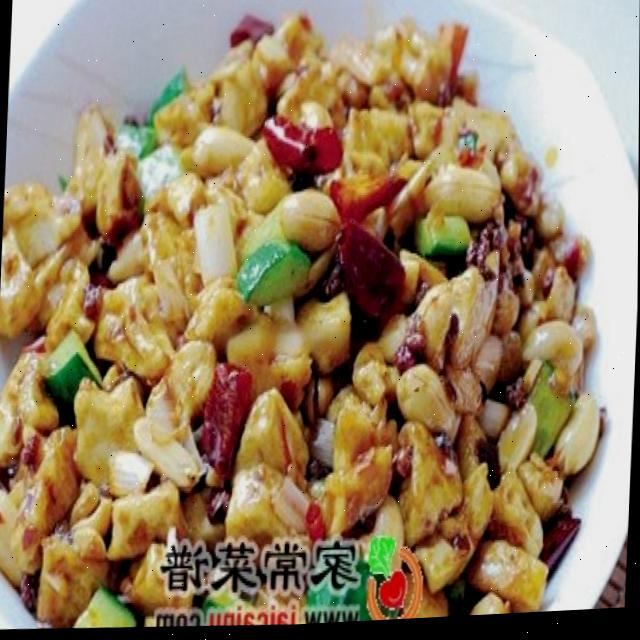鸡肉料理 含炸鸡: (0, 0, 620, 640)
